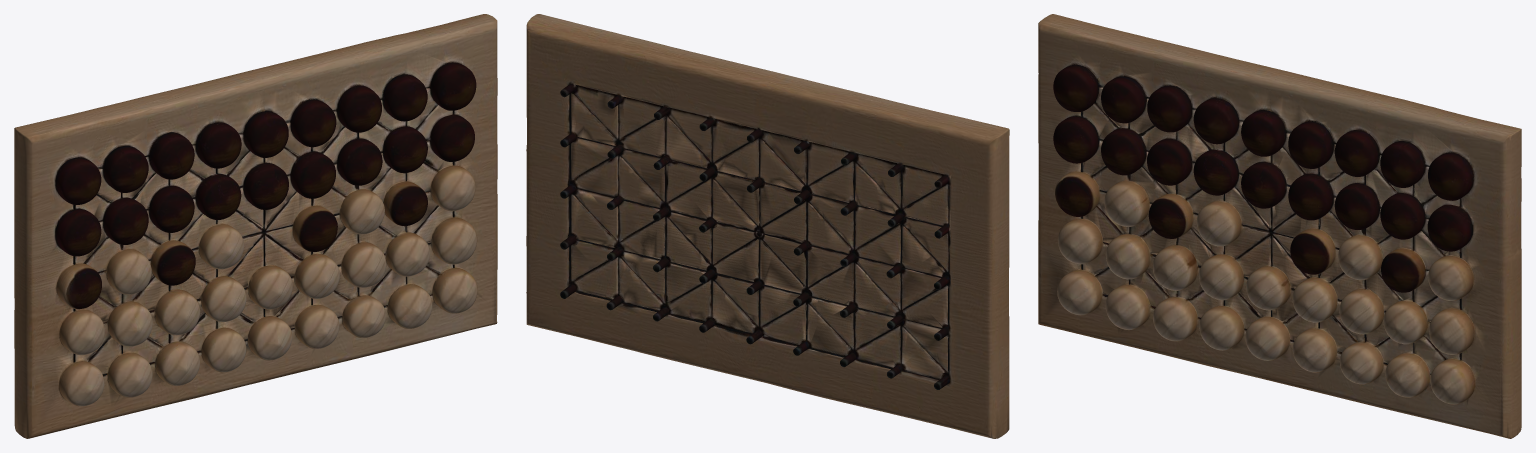
Rendered from fanorona_html5.glb.
The picture shows the model from 3 angles, left to right: view 1: azimuth 30°, elevation 25°; view 2: azimuth 150°, elevation 25°; view 3: azimuth 330°, elevation 25°; orthographic projection.
Visible parts, largest first — view 1: tripo_node_647f0d26-b06c-4c63-90bc-23a2828e902c; view 2: tripo_node_647f0d26-b06c-4c63-90bc-23a2828e902c; view 3: tripo_node_647f0d26-b06c-4c63-90bc-23a2828e902c.
Boxes of the visible parts, bbox=[...] form: tripo_node_647f0d26-b06c-4c63-90bc-23a2828e902c: bbox=[14, 14, 497, 438]; tripo_node_647f0d26-b06c-4c63-90bc-23a2828e902c: bbox=[526, 14, 1009, 438]; tripo_node_647f0d26-b06c-4c63-90bc-23a2828e902c: bbox=[1038, 14, 1521, 438].
Bounding box in the file's own units: 0.9789 × 0.6021 × 0.1427.
Materials: 1 (1 with a texture image).
